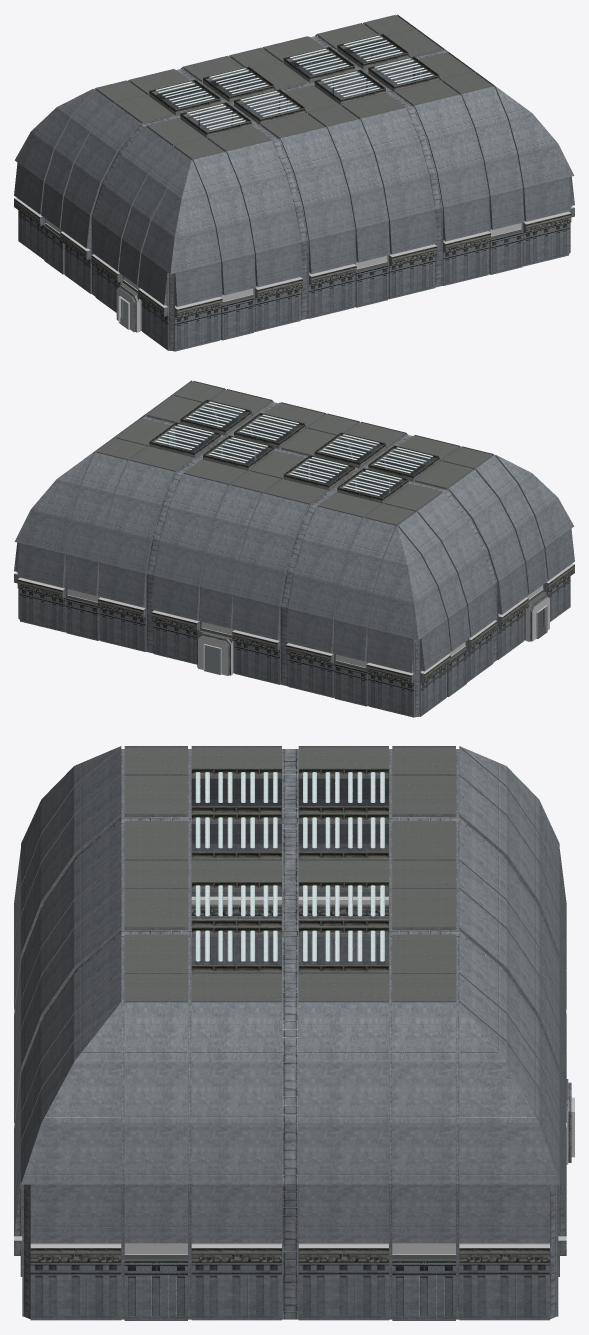
File: poi_all_impl_bunker_warren_s01_r58_bigroom58_mesh_r58.fbx
The picture shows the model from 3 angles, top to bottom: view 1: azimuth 30°, elevation 25°; view 2: azimuth 150°, elevation 25°; view 3: azimuth 270°, elevation 25°; orthographic projection. The views are drawn at different scales.
Visible parts, largest first — view 1: mesh_node; view 2: mesh_node; view 3: mesh_node.
Part boxes in pixels (bbox=[...]): mesh_node: bbox=[14, 14, 574, 351]; mesh_node: bbox=[14, 380, 574, 717]; mesh_node: bbox=[14, 746, 574, 1320].
Size of the model in its own units: 49.5 by 18.7 by 33.5.
